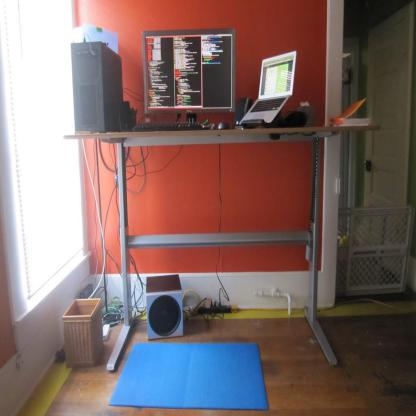board: (238, 49, 297, 125)
